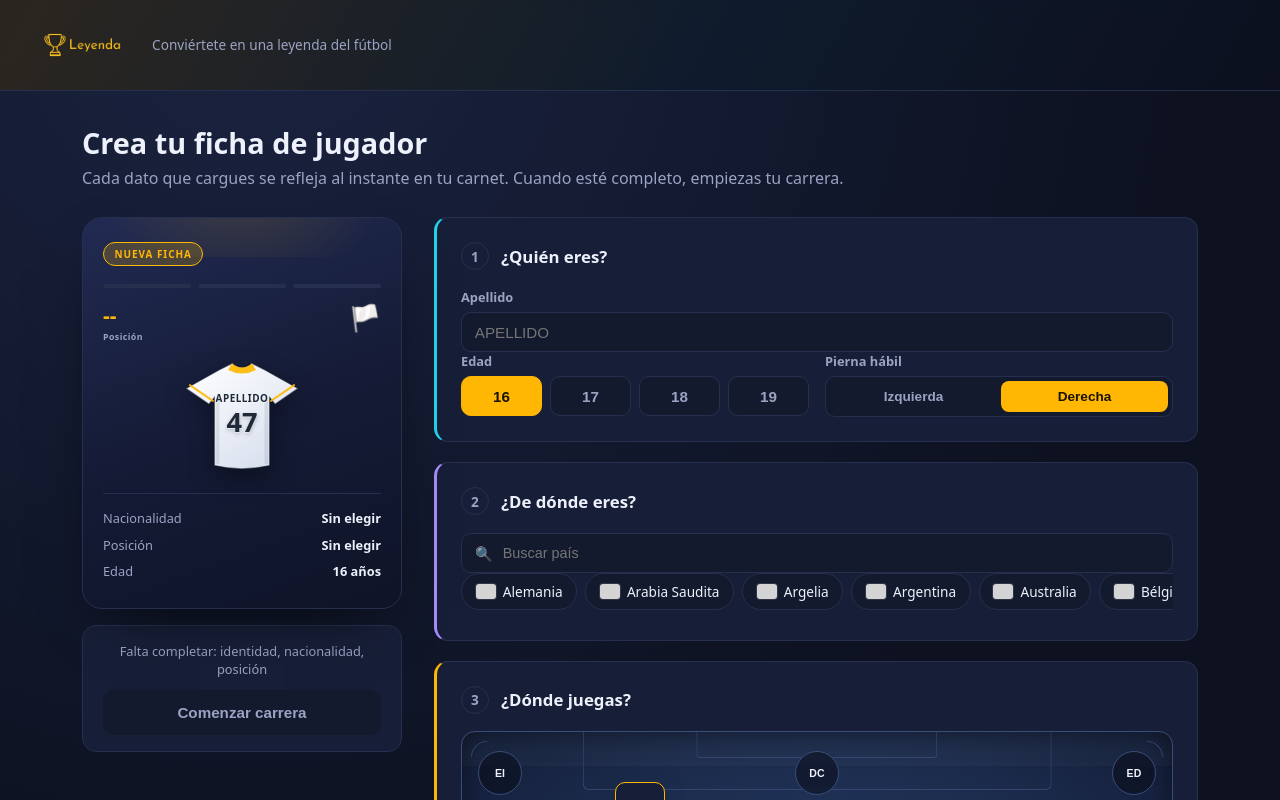
Test case: PersonajeView › completa los 3 pasos y habilita "Comenzar carrera"
This screenshot has width=1280, height=800.
Type "PEREZ" into the field labelled "Apellido".
click(817, 332); type("PEREZ")  # box [461,312,1173,352]
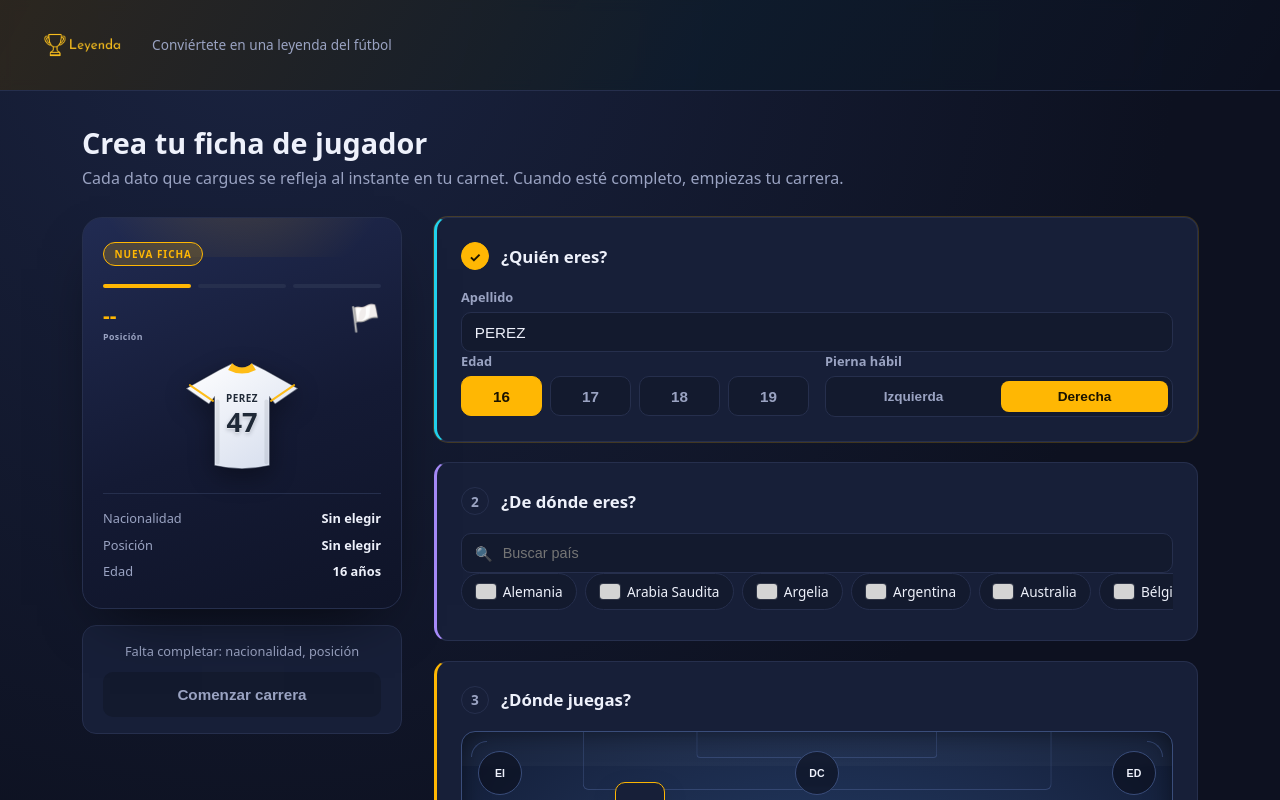
Click the element with class "country-chip" showing "Alemania".
click(519, 592)  # box [461,573,577,610]
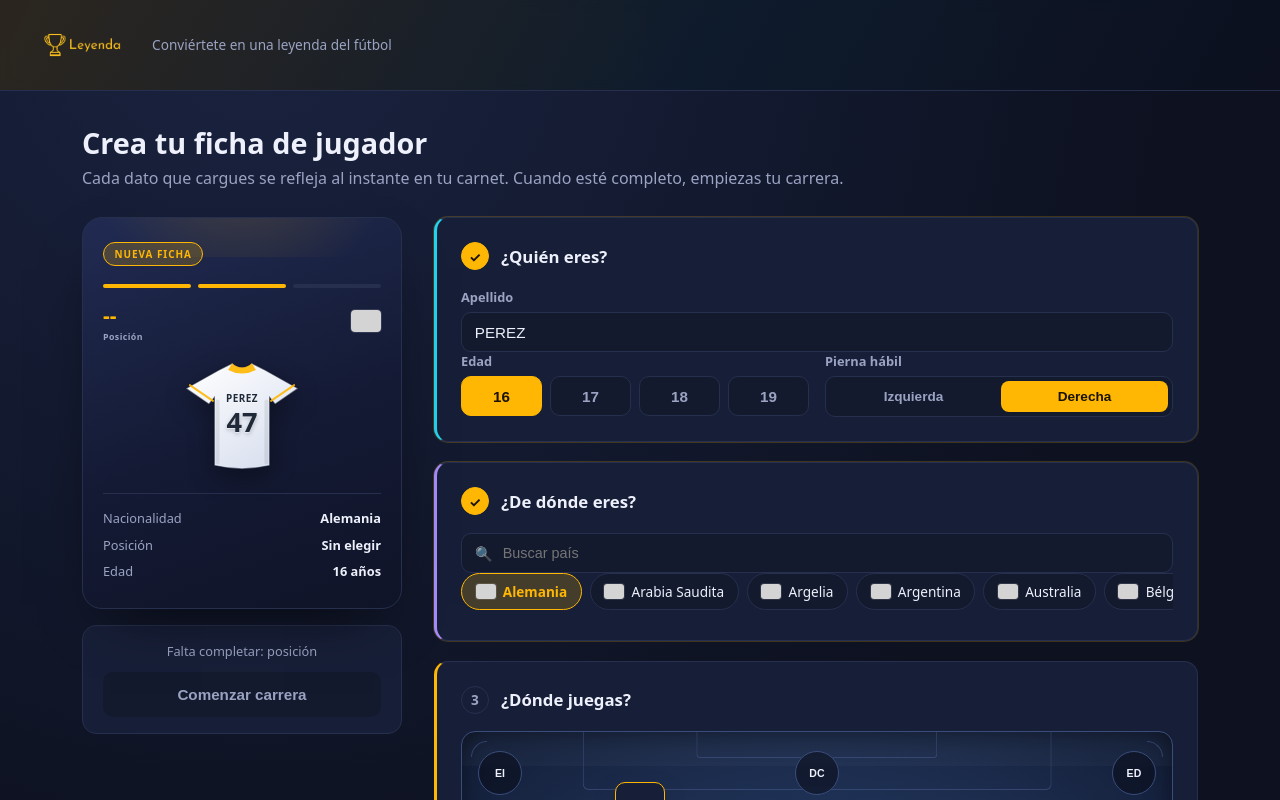
Click the button "EI".
click(500, 773)  # box [478,751,522,795]
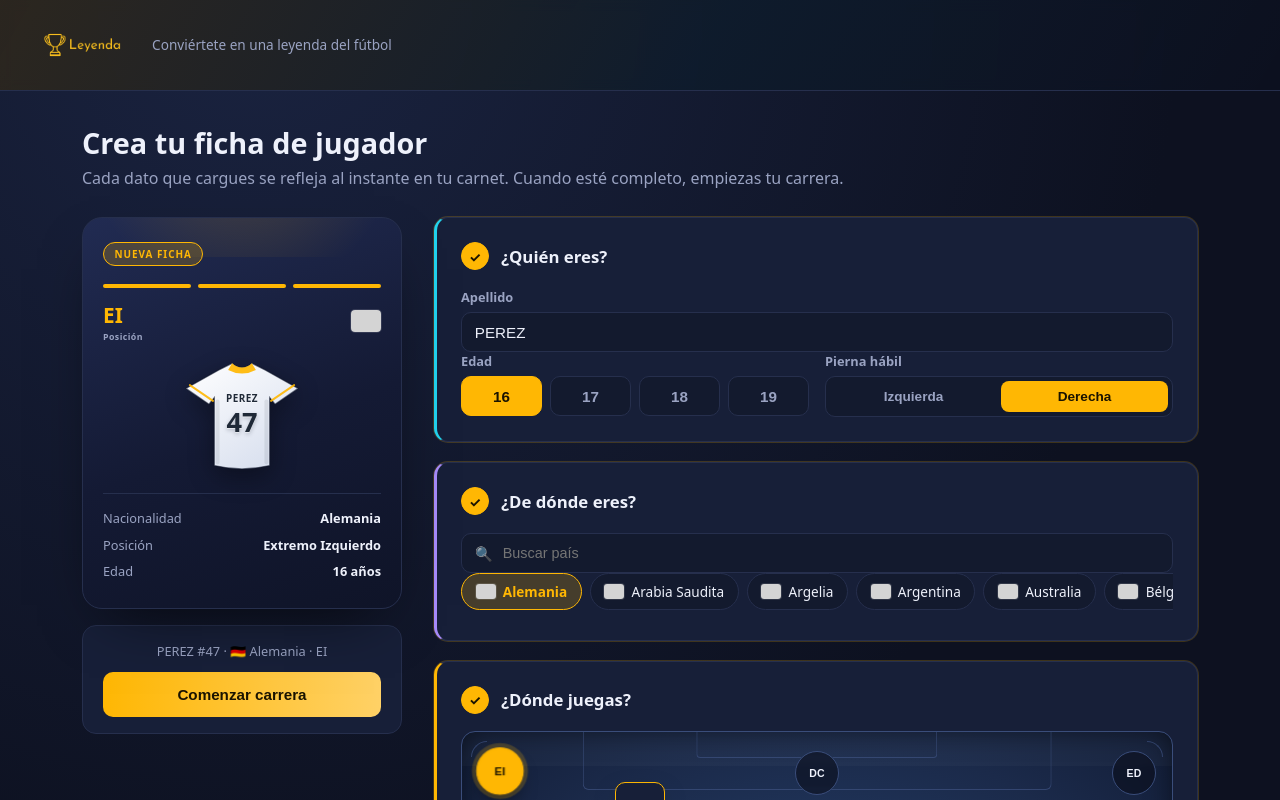
Expected: the button with class "cta" is enabled, [103,672,381,717]
